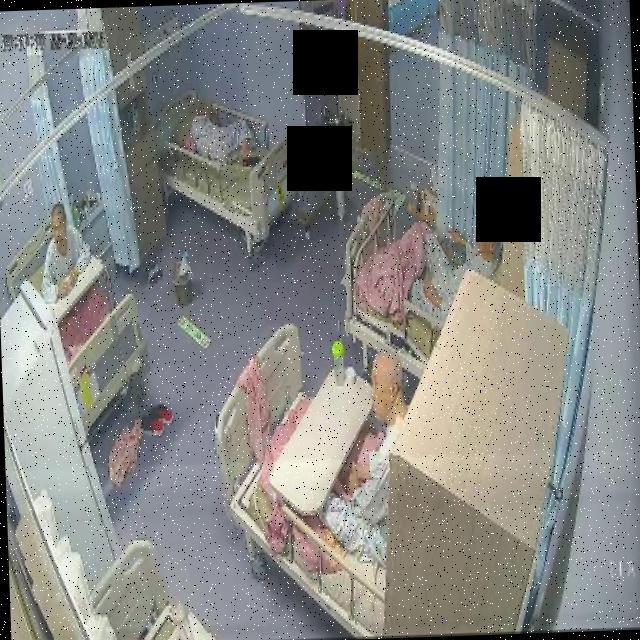bed: (212, 323, 418, 640), (5, 216, 150, 436), (342, 195, 480, 382), (154, 83, 302, 246)
lie: (181, 97, 261, 166)
patient: (312, 346, 412, 564), (418, 210, 504, 330), (38, 194, 91, 304), (181, 98, 260, 168)
sit: (311, 346, 414, 564), (375, 211, 504, 331), (38, 196, 90, 304)
